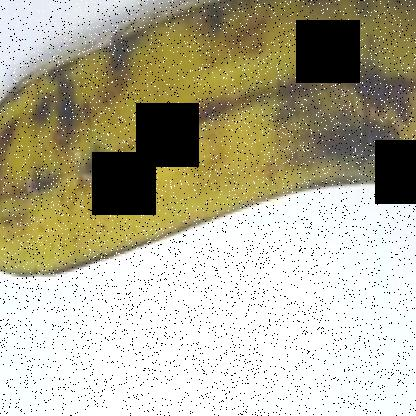overripe: (0, 1, 415, 305)
